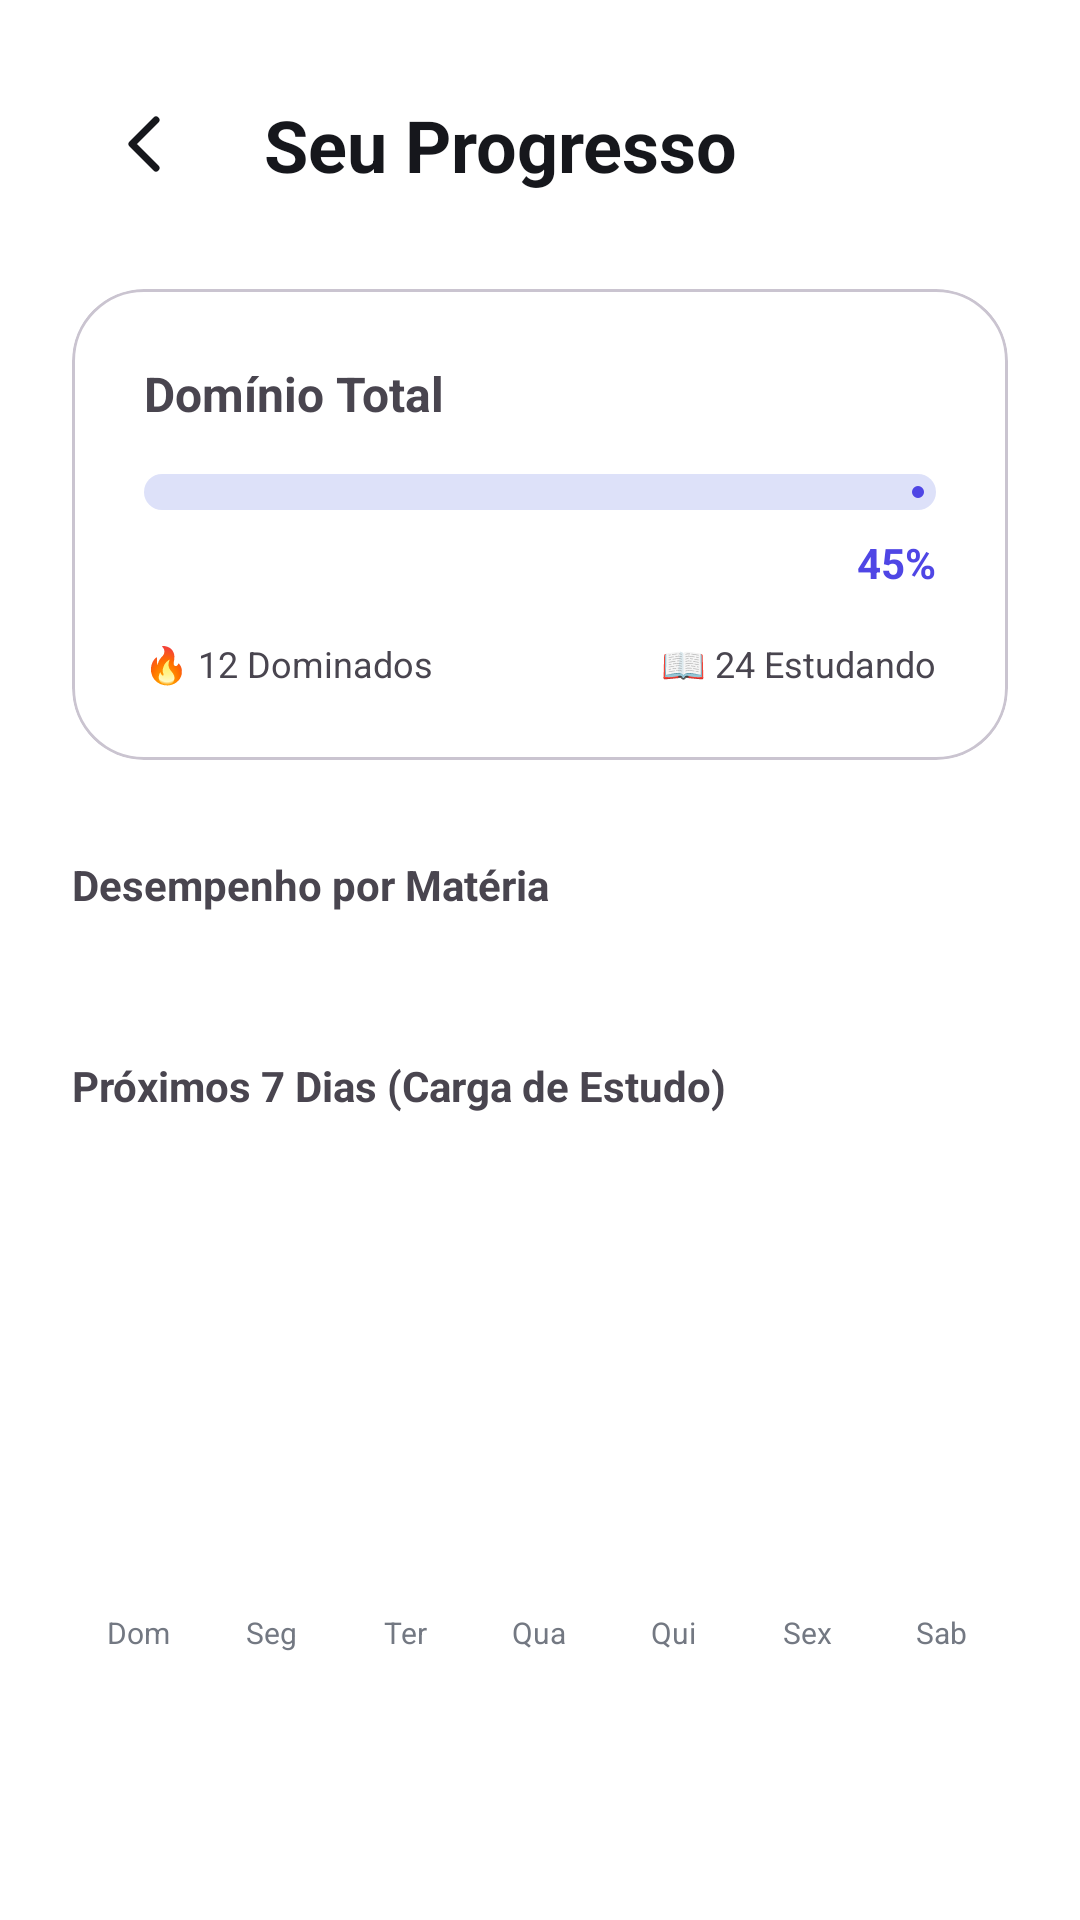

Icon click points for this 1080px×1920px phone screenshot, format [x,y]:
seta voltar: [144,144]
